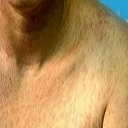Measles: (3, 10, 91, 59), (1, 70, 76, 123)
